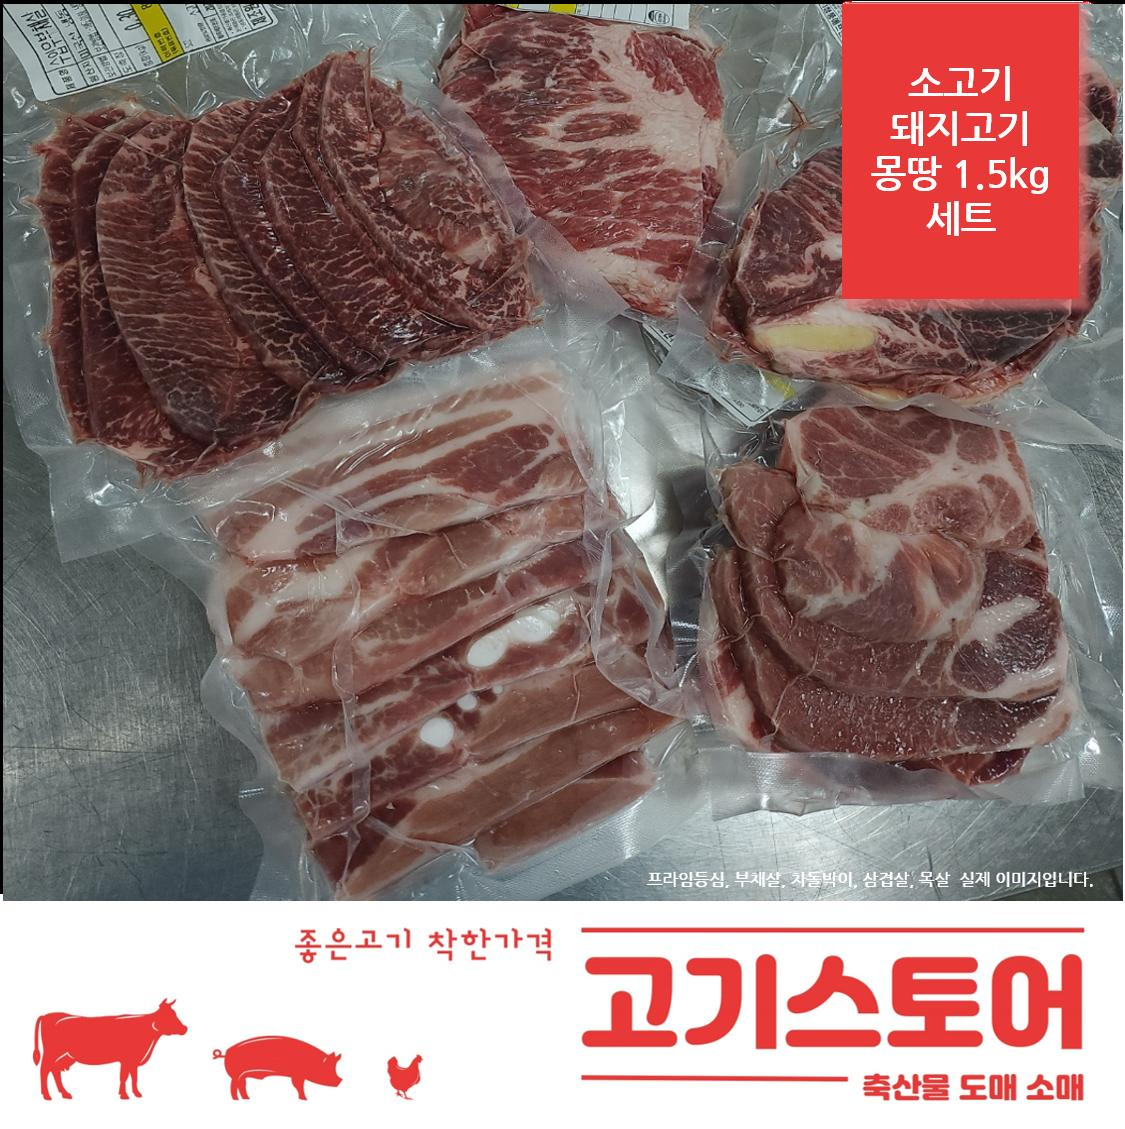beef: (58, 173, 926, 741), (411, 773, 1125, 1129), (794, 34, 1125, 540), (812, 709, 1125, 1129)
